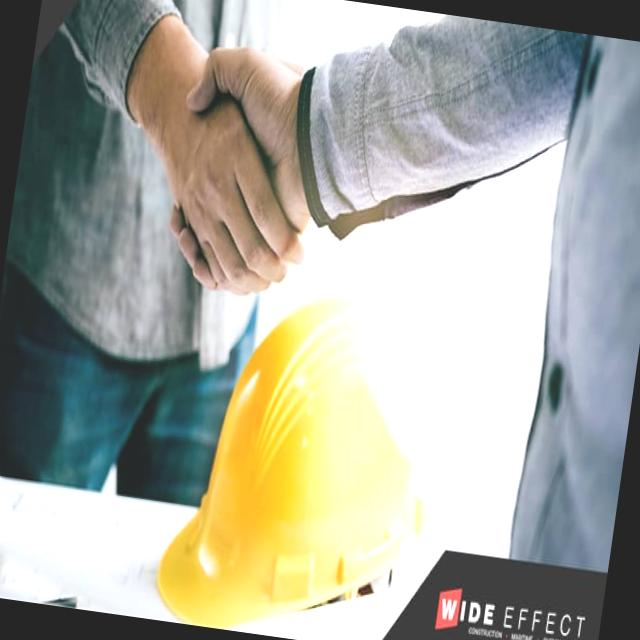helmet: (177, 269, 420, 606)
